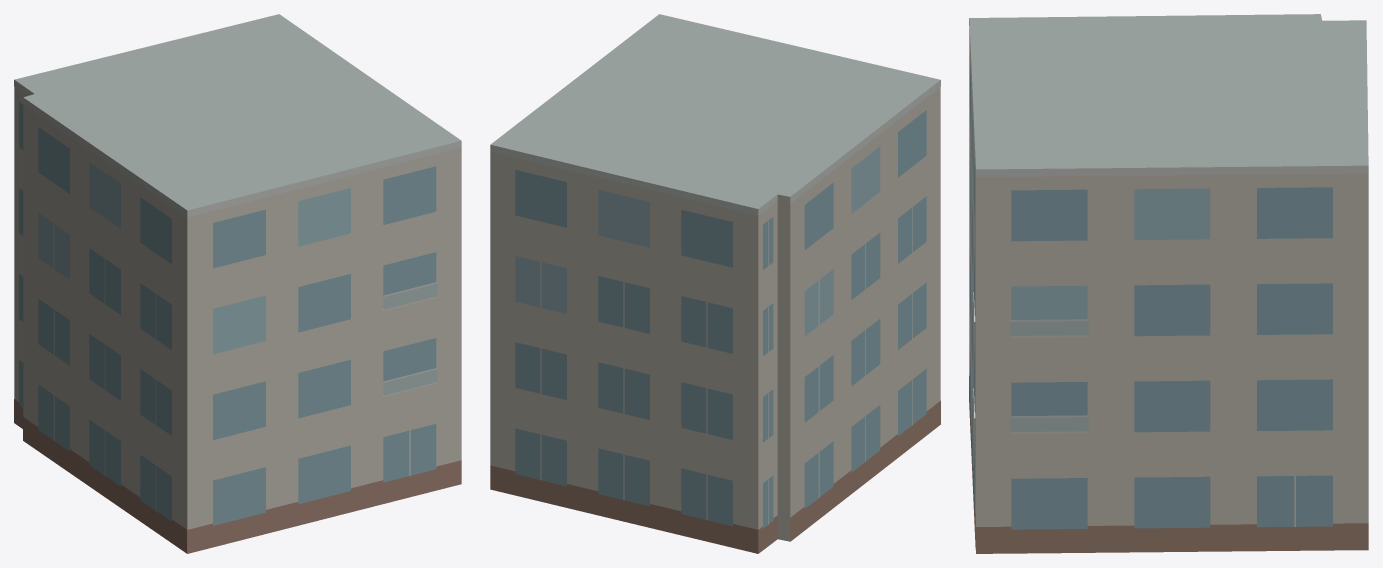
The model's file is survey-upis-32927504.glb.
3 renders of one model, left to right at view 1: azimuth 30°, elevation 25°; view 2: azimuth 150°, elevation 25°; view 3: azimuth 270°, elevation 25°, orthographic. The views are drawn at different scales.
Parts seen in each view (by area): view 1: survey-upis-32927504.tmp; view 2: survey-upis-32927504.tmp; view 3: survey-upis-32927504.tmp.
Boxes of the visible parts, x1,y1,x2,y2 form: survey-upis-32927504.tmp: [14, 14, 461, 553]; survey-upis-32927504.tmp: [490, 14, 940, 553]; survey-upis-32927504.tmp: [969, 14, 1368, 553].
Bounding box in the file's own units: 10.6 × 12.2 × 11.5.
